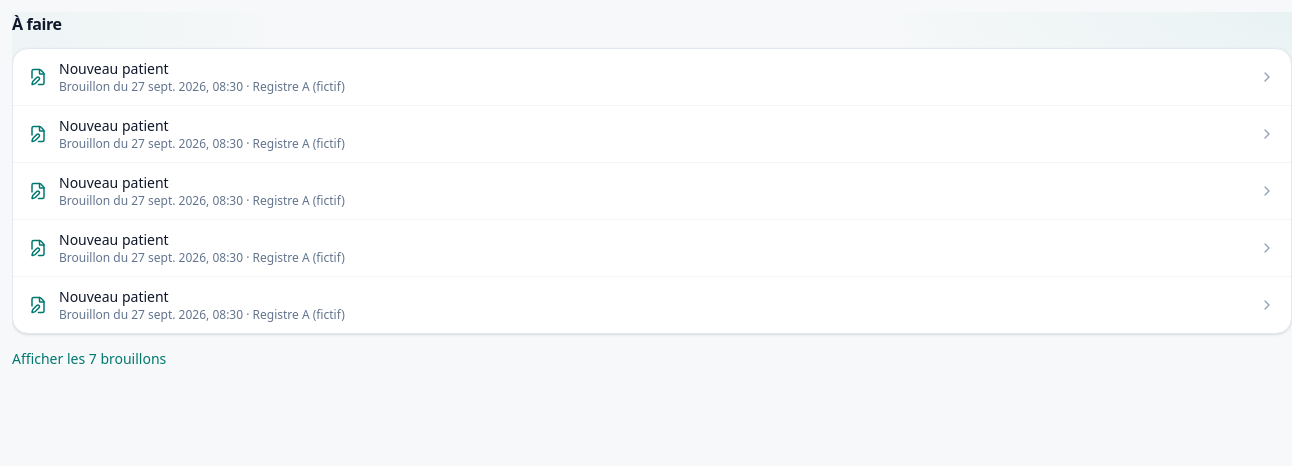
Scenario: page « À faire » (lot 8) › au-delà de cinq brouillons, la liste se déplie sur demande
The image size is (1292, 466).
expect the heading "À faire" is shown: met, box [12, 13, 62, 35]
expect the number of links "Nouveau patient" is 5: met, box [13, 49, 1291, 105]; [13, 106, 1291, 162]; [13, 163, 1291, 219]; [13, 220, 1291, 276]; [13, 277, 1291, 333]
Click the button "Afficher les 7 brouillons" at (89, 359), box [12, 349, 166, 369]
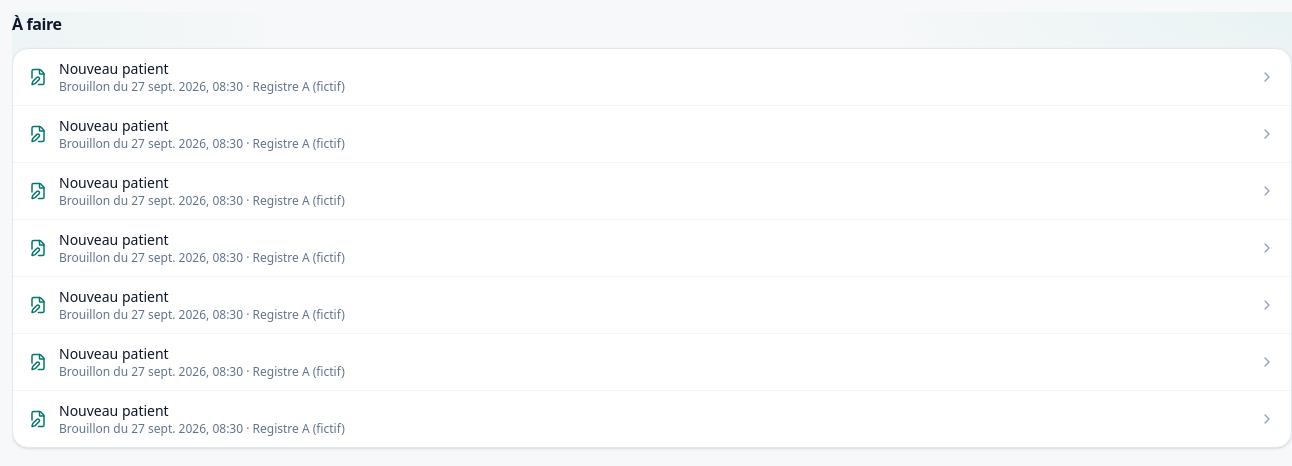
expect the number of links "Nouveau patient" is 7: met
expect the button "Afficher les" is gone: met
